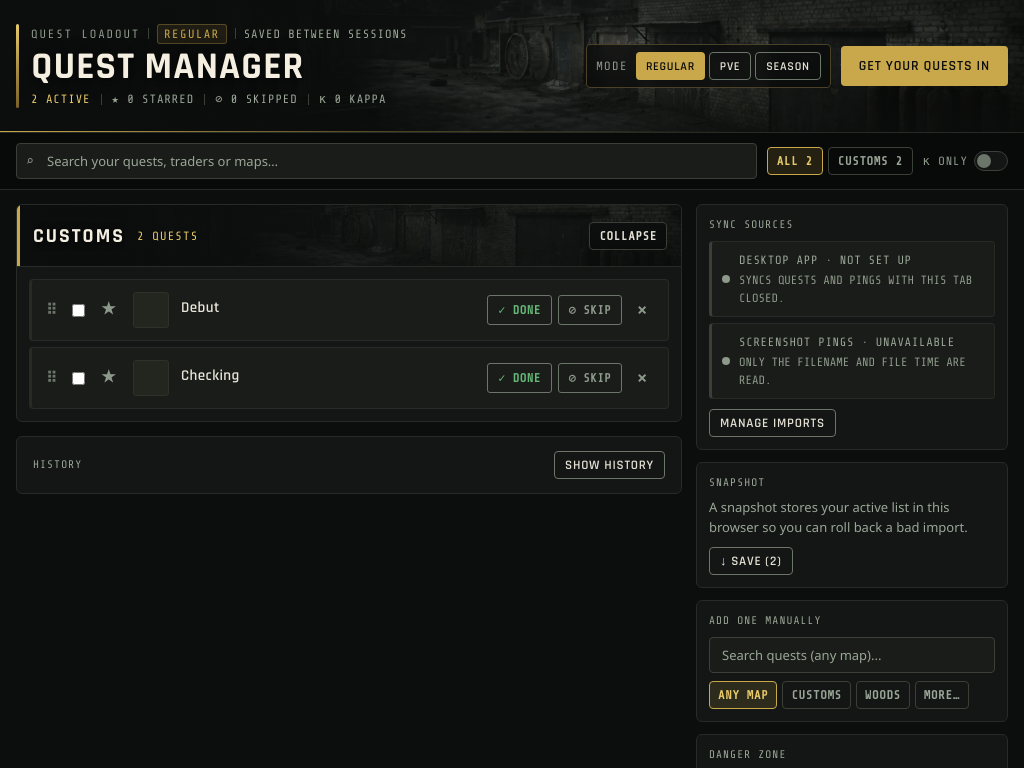
Test case: MyQuests saved list › runs a bulk action over every ticked row, then clears the selection
The width and height of the screenshot is (1024, 768).
Click the checkbox named "Select Debut" at (78, 310), box [72,304,85,316]
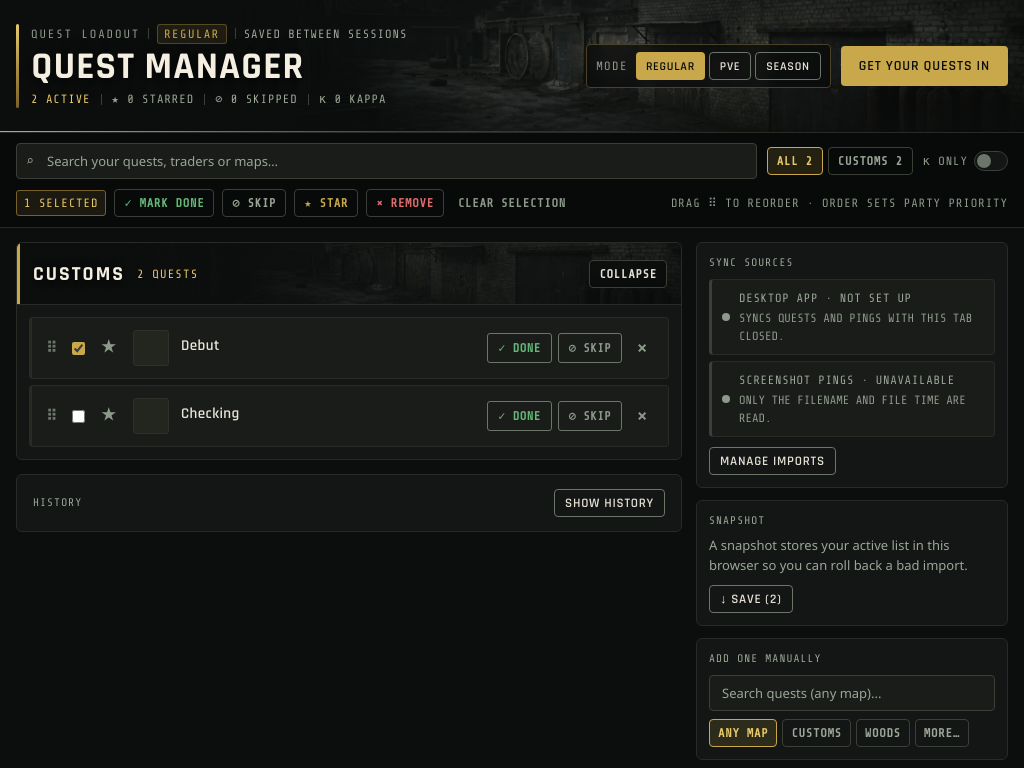
Click the checkbox named "Select Checking" at (78, 416), box [72,410,85,422]
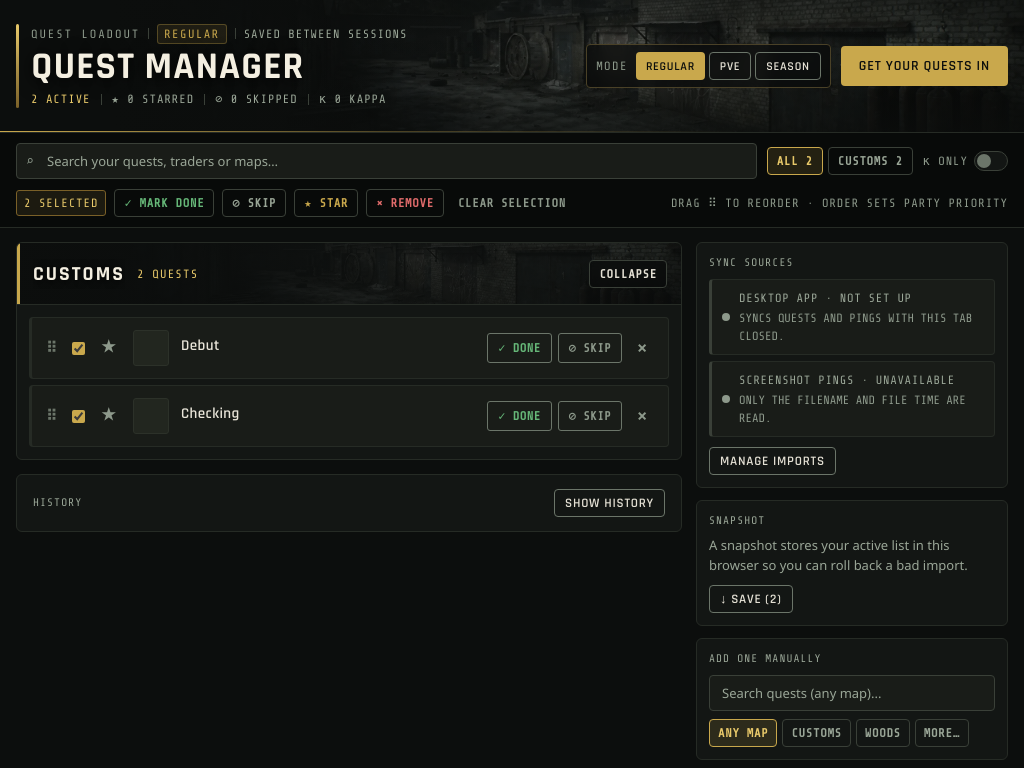
Now the text "2 SELECTED" is shown, box [16,190,106,216]
Click the button "× REMOVE" at (405, 203), box [366,189,444,217]
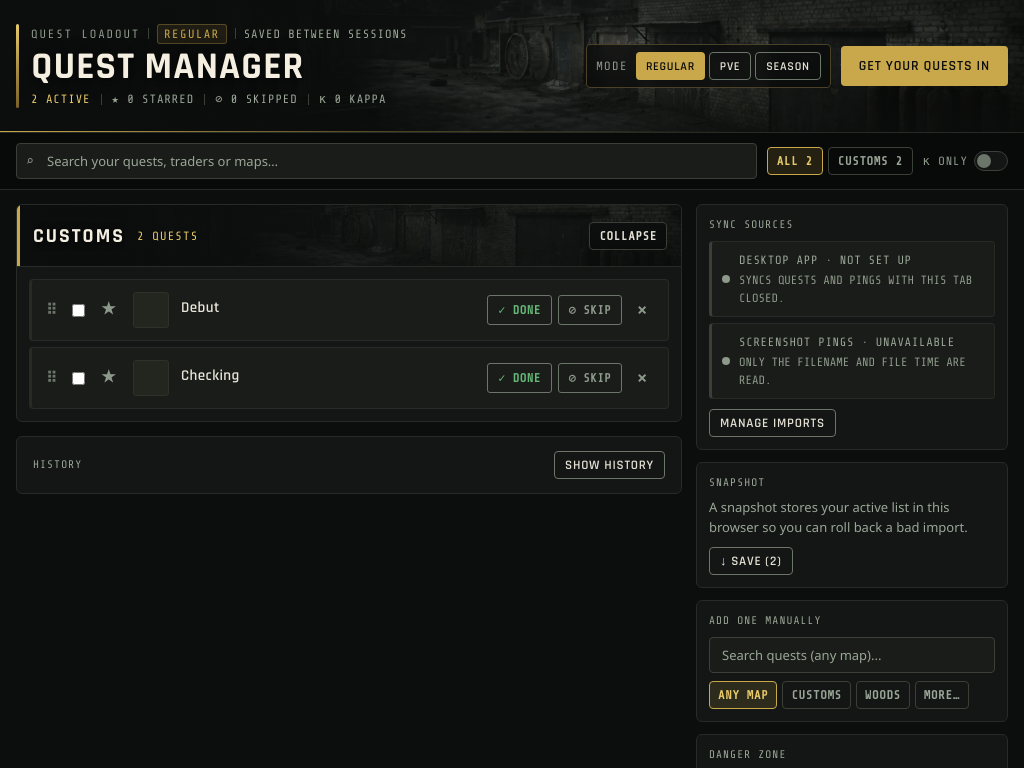
Now the text "2 SELECTED" is gone
